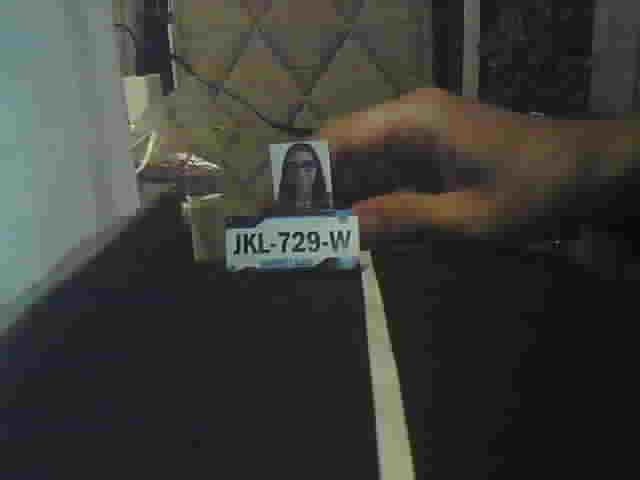PLACA: (222, 210, 361, 273)
ROSTRO: (275, 142, 330, 205)
